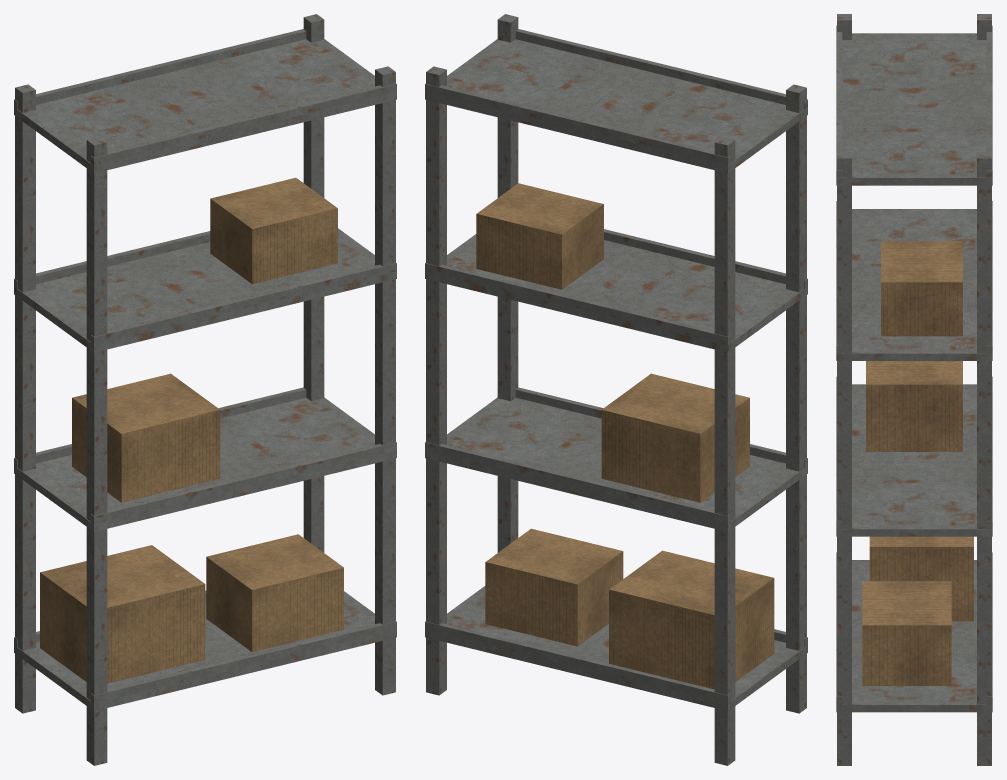
File: shelf.glb
The picture shows the model from 3 angles, left to right: view 1: azimuth 30°, elevation 25°; view 2: azimuth 150°, elevation 25°; view 3: azimuth 270°, elevation 25°; orthographic projection. The views are drawn at different scales.
Visible parts, largest first — view 1: shelf; view 2: shelf; view 3: shelf.
Part boxes in pixels (x1,y1,x2,y2): shelf: (14,14,396,765); shelf: (425,14,807,765); shelf: (836,14,992,765).
Size of the model in its own units: 0.92 by 1.8 by 0.42.
2 materials, 2 textured.
